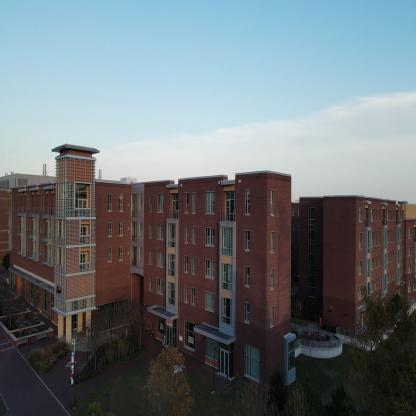Wolf Ridge: (19, 147, 415, 383)
